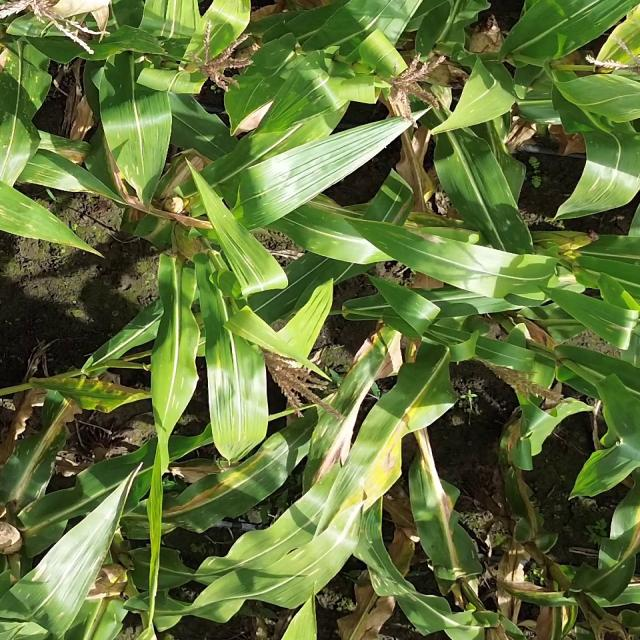gray-leaf-spot: (16, 528, 114, 615), (21, 138, 99, 231), (277, 203, 374, 261), (362, 548, 419, 620), (115, 115, 153, 189)
northern-leaf-blight: (330, 392, 429, 522), (149, 444, 287, 527), (3, 391, 85, 474)
southern-leaf-blight: (8, 45, 52, 134)
